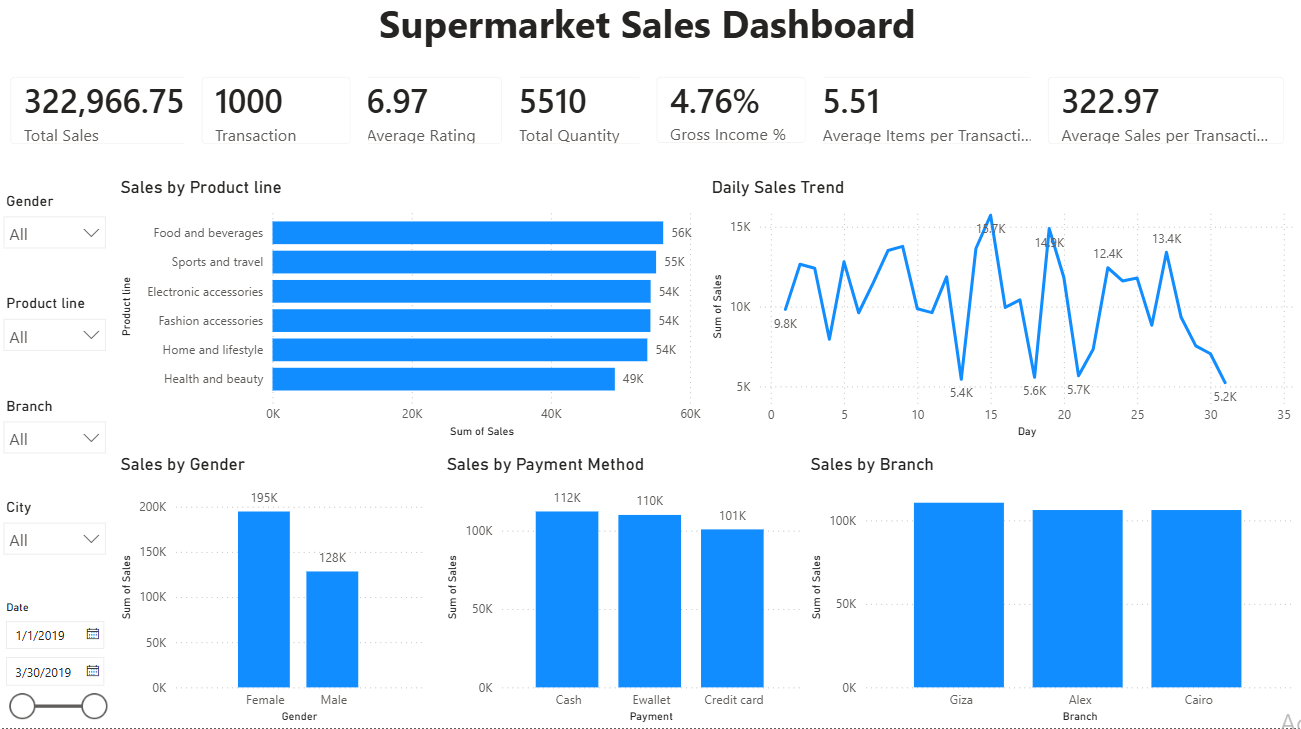

This screenshot's page, from the dashboard's own definition file:
{"tool":"powerbi","page":{"name":"Supermarket  Sales Dashboard","canvas":[1280,720],"ordinal":0},"visuals":[{"type":"cardVisual","fields":{"Data":["Supermarket Sales Data Cleaned.Total Sales"]},"box":[0,65.9,217.9,100.9],"z":0},{"type":"cardVisual","fields":{"Data":["Supermarket Sales Data Cleaned.Total Quantity"]},"box":[484,65.9,180,100],"z":1000},{"type":"cardVisual","fields":{"Data":["Supermarket Sales Data Cleaned.Average Rating"]},"box":[335.4,65.9,180,100],"z":2000},{"type":"cardVisual","fields":{"Data":["Supermarket Sales Data Cleaned.Total Transaction"]},"box":[186.5,65.9,180.2,100.9],"z":3000},{"type":"barChart","title":"Sales by Product line ","fields":{"Category":["Supermarket Sales Data Cleaned.Product line"],"Y":["Sum(Supermarket Sales Data Cleaned.Sales)"]},"box":[120,181.5,579,260],"z":4000},{"type":"lineChart","title":"Daily Sales Trend","fields":{"Y":["Sum(Supermarket Sales Data Cleaned.Sales)"],"Category":["Supermarket Sales Data Cleaned.Date.Variation.Date Hierarchy.Day"]},"box":[698.2,181,579.6,260.5],"z":5000},{"type":"columnChart","title":"Sales by Gender","fields":{"Y":["Sum(Supermarket Sales Data Cleaned.Sales)"],"Category":["Supermarket Sales Data Cleaned.Gender"]},"box":[119.8,451.2,305.7,269],"z":6000},{"type":"columnChart","title":"Sales by Payment Method","fields":{"Category":["Supermarket Sales Data Cleaned.Payment"],"Y":["Sum(Supermarket Sales Data Cleaned.Sales)"]},"box":[439,451.2,355.8,269],"z":7000},{"type":"slicer","fields":{"Values":["Supermarket Sales Data Cleaned.Gender"]},"box":[0,190.8,120,100],"z":8000},{"type":"slicer","fields":{"Values":["Supermarket Sales Data Cleaned.Product line"]},"box":[0,290.7,120,100],"z":9000},{"type":"slicer","fields":{"Values":["Supermarket Sales Data Cleaned.Branch"]},"box":[0,390.7,120,100],"z":10000},{"type":"slicer","fields":{"Values":["Supermarket Sales Data Cleaned.City"]},"box":[0,490.7,120,100],"z":11000},{"type":"cardVisual","fields":{"Data":["Supermarket Sales Data Cleaned.Average Items per Transaction"]},"box":[781.3,65.9,265,100],"z":12000},{"type":"cardVisual","fields":{"Data":["Supermarket Sales Data Cleaned.Average Sales per Transaction"]},"box":[1015,65.9,265,100],"z":13000},{"type":"cardVisual","fields":{"Data":["Supermarket Sales Data Cleaned.Gross Income %"]},"box":[632.7,65.9,180,99.7],"z":14000},{"type":"textbox","box":[0,0,1280.3,65.9],"z":15000},{"type":"slicer","fields":{"Values":["Supermarket Sales Data Cleaned.Date"]},"box":[0,590.4,120,129.6],"z":16000},{"type":"columnChart","title":"Sales by Branch","fields":{"Category":["Supermarket Sales Data Cleaned.Branch"],"Y":["Sum(Supermarket Sales Data Cleaned.Sales)"]},"box":[795,451,483,269],"z":16001}]}

Visuals, with their boxes in screenshot pixels (x1, y1, x2, y2), scaled from the page's 1280x720 canvas onto the 1301x729 screenshot:
cardVisual - Supermarket Sales Data Cleaned.Total Sales: 0 67 221 169
cardVisual - Supermarket Sales Data Cleaned.Total Quantity: 492 67 675 168
cardVisual - Supermarket Sales Data Cleaned.Average Rating: 341 67 524 168
cardVisual - Supermarket Sales Data Cleaned.Total Transaction: 190 67 373 169
"Sales by Product line " barChart: 122 184 710 447
"Daily Sales Trend" lineChart: 710 183 1299 447
"Sales by Gender" columnChart: 122 457 432 728
"Sales by Payment Method" columnChart: 446 457 808 728
slicer - Supermarket Sales Data Cleaned.Gender: 0 193 122 294
slicer - Supermarket Sales Data Cleaned.Product line: 0 294 122 396
slicer - Supermarket Sales Data Cleaned.Branch: 0 396 122 497
slicer - Supermarket Sales Data Cleaned.City: 0 497 122 598
cardVisual - Supermarket Sales Data Cleaned.Average Items per Transaction: 794 67 1063 168
cardVisual - Supermarket Sales Data Cleaned.Average Sales per Transaction: 1032 67 1300 168
cardVisual - Supermarket Sales Data Cleaned.Gross Income %: 643 67 826 168
textbox: 0 0 1300 67
slicer - Supermarket Sales Data Cleaned.Date: 0 598 122 728
"Sales by Branch" columnChart: 808 457 1299 728
